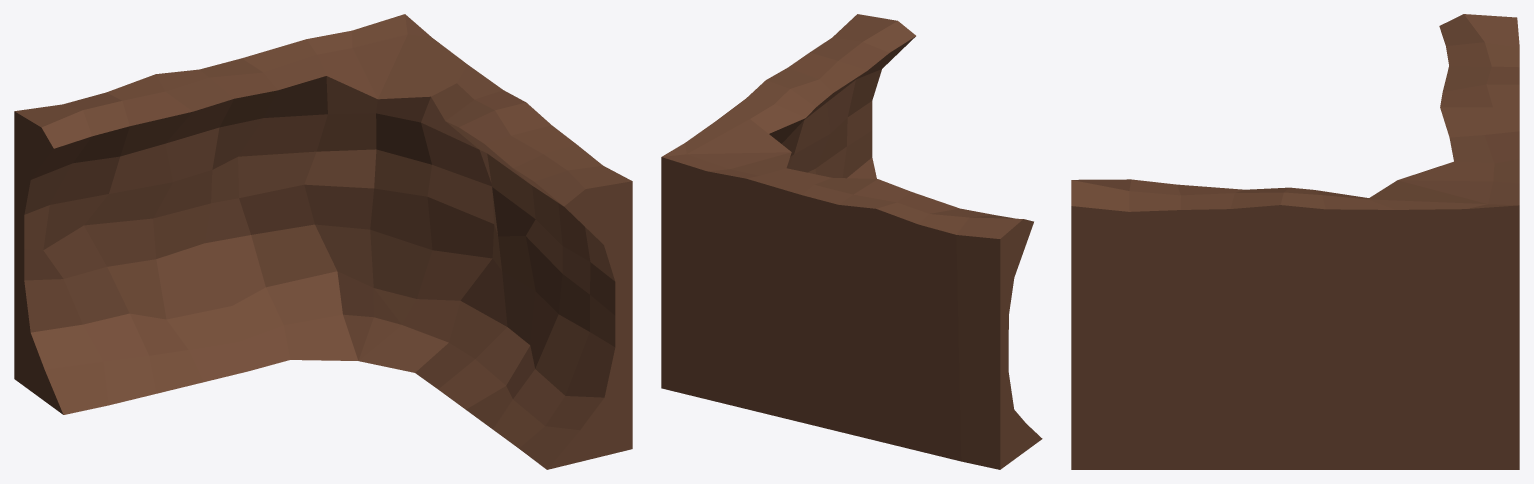
File: CaveWallRound.fbx
3 renders of one model, left to right at view 1: azimuth 30°, elevation 25°; view 2: azimuth 150°, elevation 25°; view 3: azimuth 270°, elevation 25°, orthographic. The views are drawn at different scales.
Parts seen in each view (by area): view 1: CaveWallRound; view 2: CaveWallRound; view 3: CaveWallRound.
Part boxes in pixels (box(x1,y1,x2,y2)): CaveWallRound: box(14, 14, 632, 469); CaveWallRound: box(661, 14, 1042, 469); CaveWallRound: box(1071, 14, 1519, 469).
Bounding box in the file's own units: 536 × 355 × 539.
Materials: 1 (1 with a texture image).
